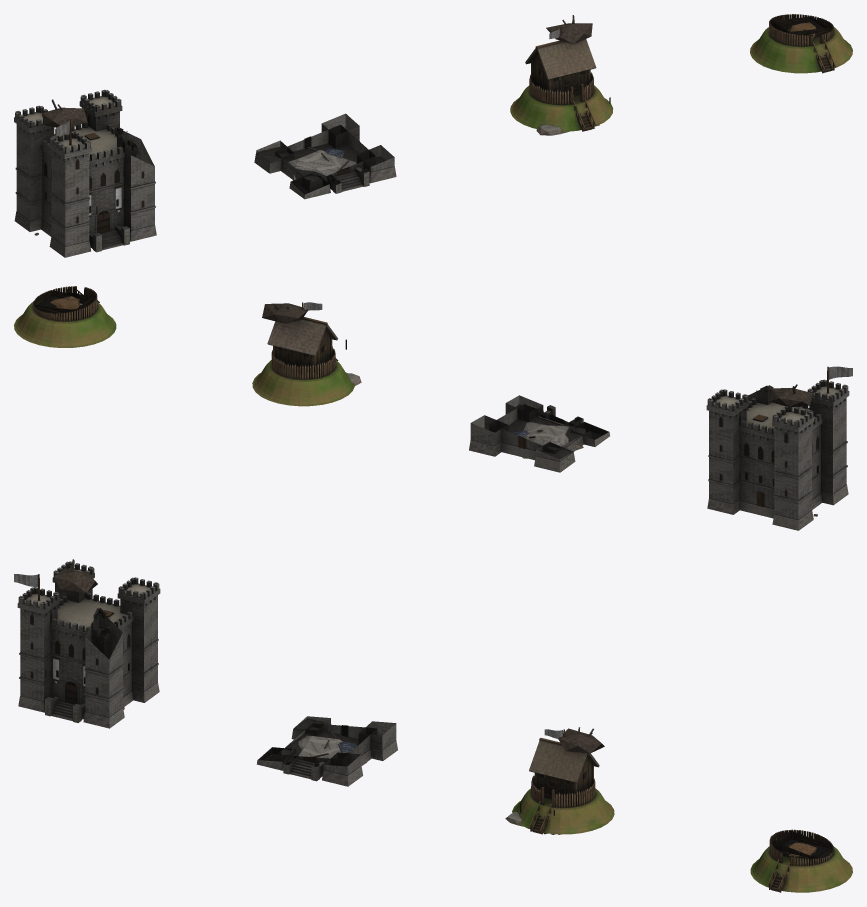
File: palace-damage-kingdoms.glb
The picture shows the model from 3 angles, top to bottom: view 1: azimuth 30°, elevation 25°; view 2: azimuth 150°, elevation 25°; view 3: azimuth 330°, elevation 25°; orthographic projection.
Visible parts, largest first — view 1: LOD0, LOD0.002, LOD0.001, LOD0.003; view 2: LOD0, LOD0.002, LOD0.001, LOD0.003; view 3: LOD0, LOD0.002, LOD0.001, LOD0.003.
Boxes of the visible parts, x1,y1,x2,y2 form: LOD0: (14,89,156,257); LOD0.002: (510,15,613,135); LOD0.001: (254,113,396,199); LOD0.003: (750,14,852,73); LOD0: (706,366,852,530); LOD0.002: (252,302,361,406); LOD0.001: (469,395,609,472); LOD0.003: (14,286,116,347); LOD0: (14,559,160,728); LOD0.002: (505,727,614,834); LOD0.001: (256,716,397,786); LOD0.003: (750,829,852,892).
Size of what is drawn, in the model's own units: 10.18 by 1.56 by 1.19.
2 materials, 2 textured.
